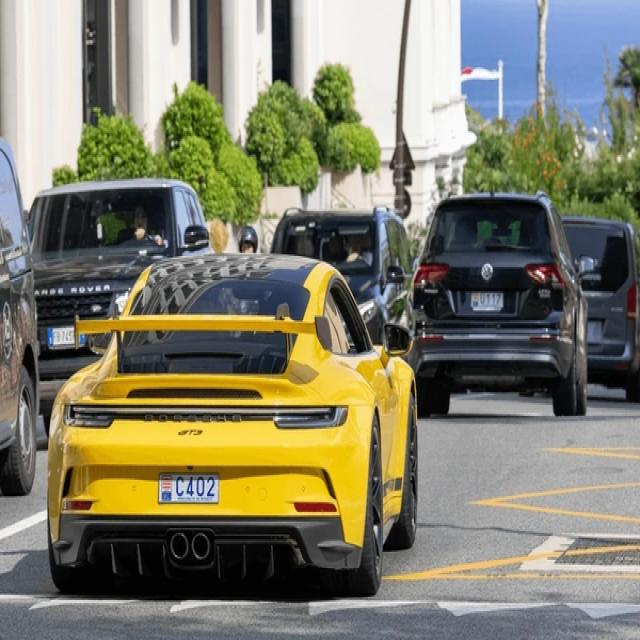porsche: (140, 408, 246, 428)
